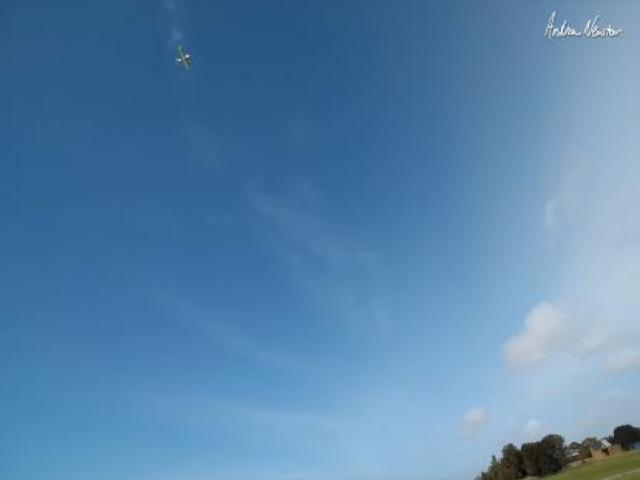uav: (170, 41, 196, 74)
